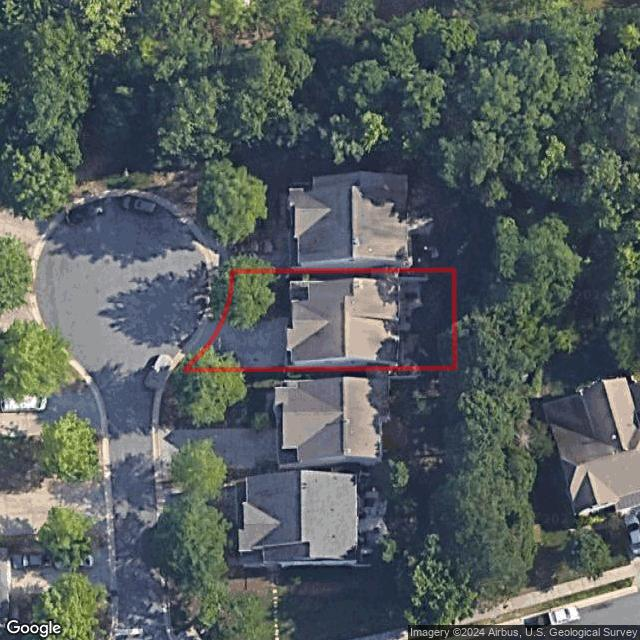Driveway: (203, 317, 290, 366)
Extra-Driveway: (184, 322, 222, 352)
Extra-Lawn: (206, 271, 234, 322), (171, 352, 203, 371)
House: (286, 278, 400, 367)
Lawn: (185, 270, 454, 369)
